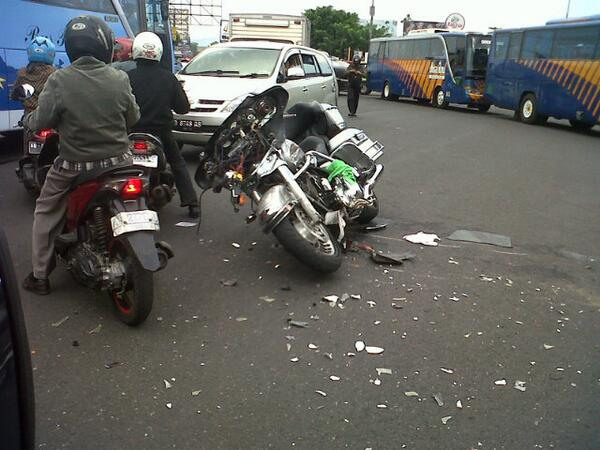plate: (110, 208, 158, 238)
